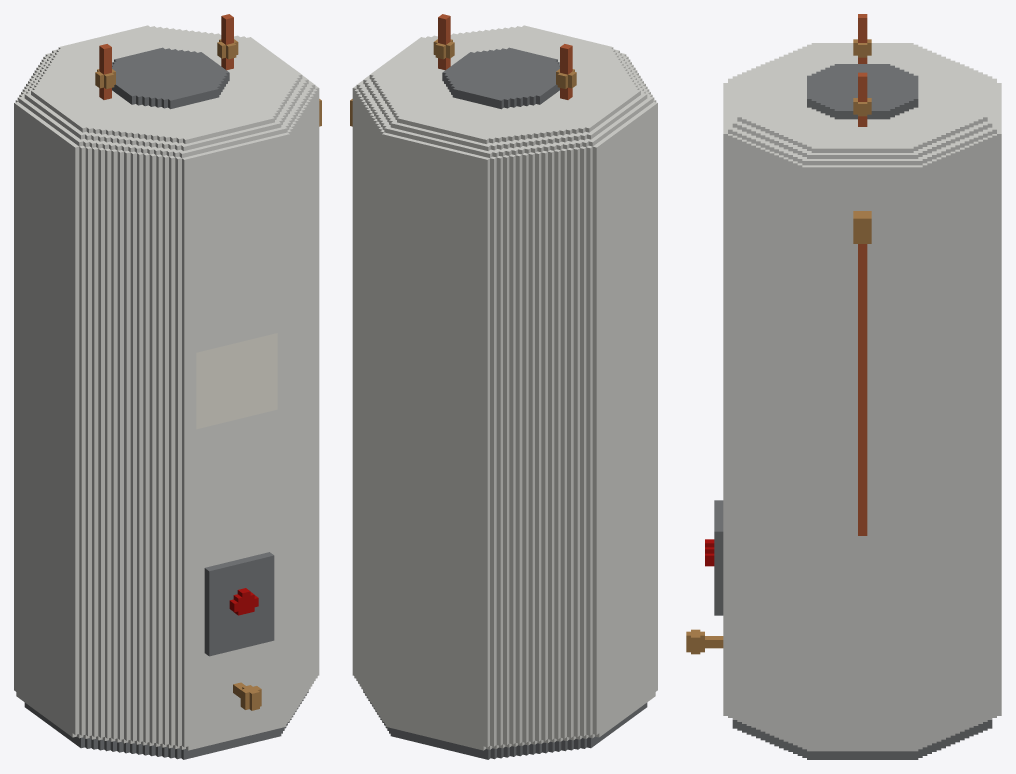
Rendered from household_water_heater_family.glb.
The picture shows the model from 3 angles, left to right: view 1: azimuth 30°, elevation 25°; view 2: azimuth 150°, elevation 25°; view 3: azimuth 270°, elevation 25°; orthographic projection.
Visible parts, largest first — view 1: household_water_heater_family:compound; view 2: household_water_heater_family:compound; view 3: household_water_heater_family:compound.
Boxes of the visible parts, left/top/right/bottom form: household_water_heater_family:compound: left=14, top=14, right=321, bottom=759; household_water_heater_family:compound: left=350, top=14, right=657, bottom=759; household_water_heater_family:compound: left=686, top=14, right=1001, bottom=759.
Size of the model in its own units: 0.67 by 1.57 by 0.68.
